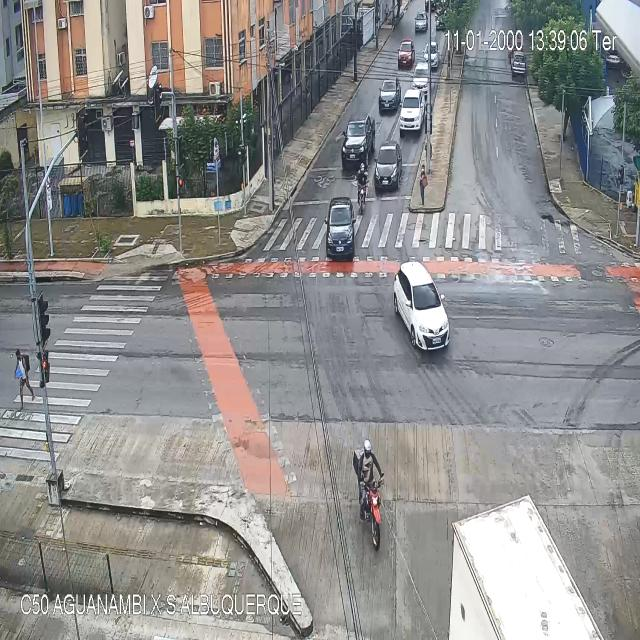Car: (393, 258, 448, 352), (324, 197, 357, 257), (341, 114, 376, 163), (375, 143, 402, 189), (400, 90, 425, 135), (379, 79, 398, 114), (412, 63, 429, 96), (398, 40, 414, 74), (422, 43, 439, 71), (511, 53, 527, 78), (414, 10, 426, 36)
Motorcycle: (359, 439, 386, 552), (357, 162, 368, 213)
Truck: (450, 492, 605, 640)
